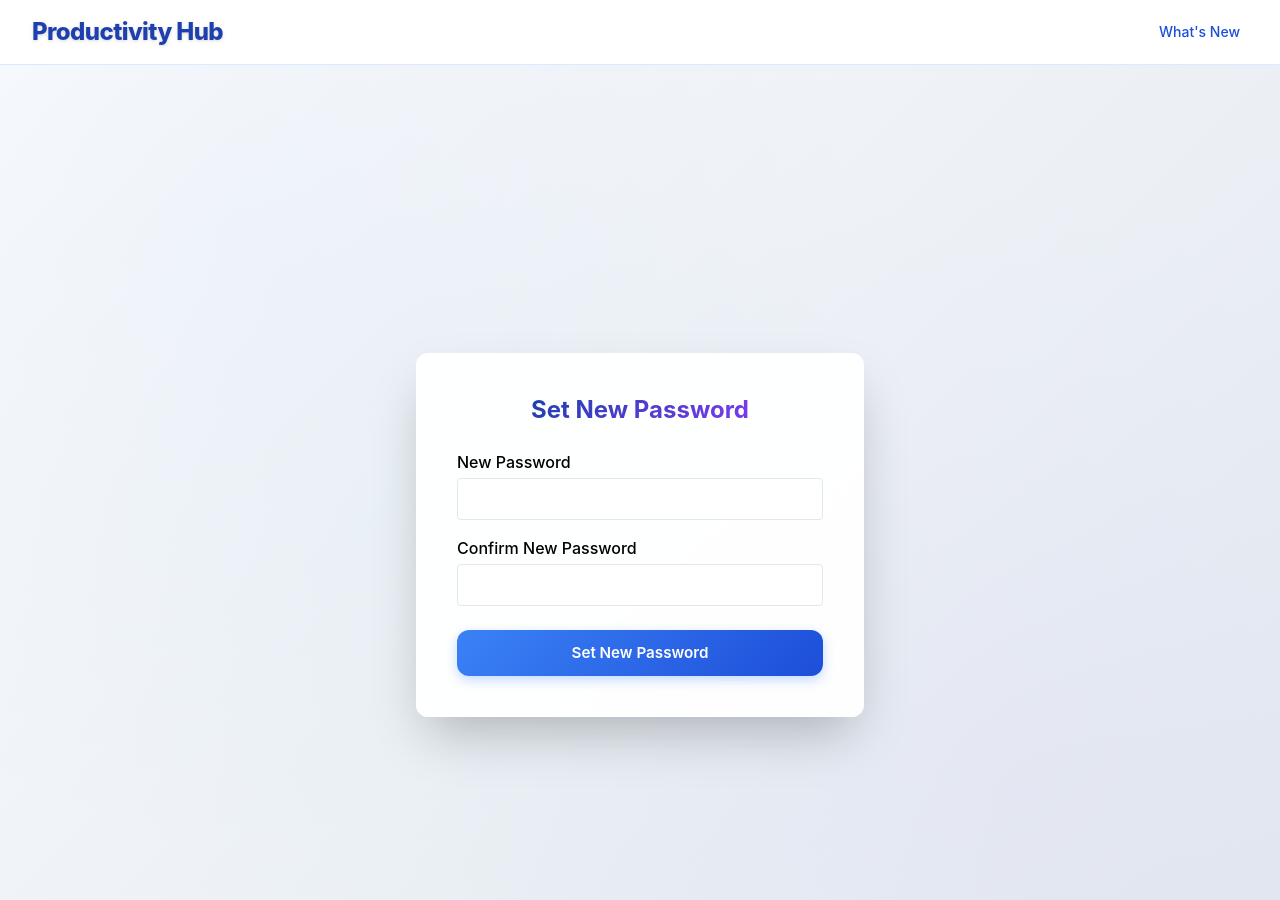
Test case: PasswordResetConfirmPage › Success State Handling › shows success message and redirects on successful password reset
Type "newpassword123" into the password field labelled "New Password".
click(640, 499); type("newpassword123")  # box [457,478,823,520]
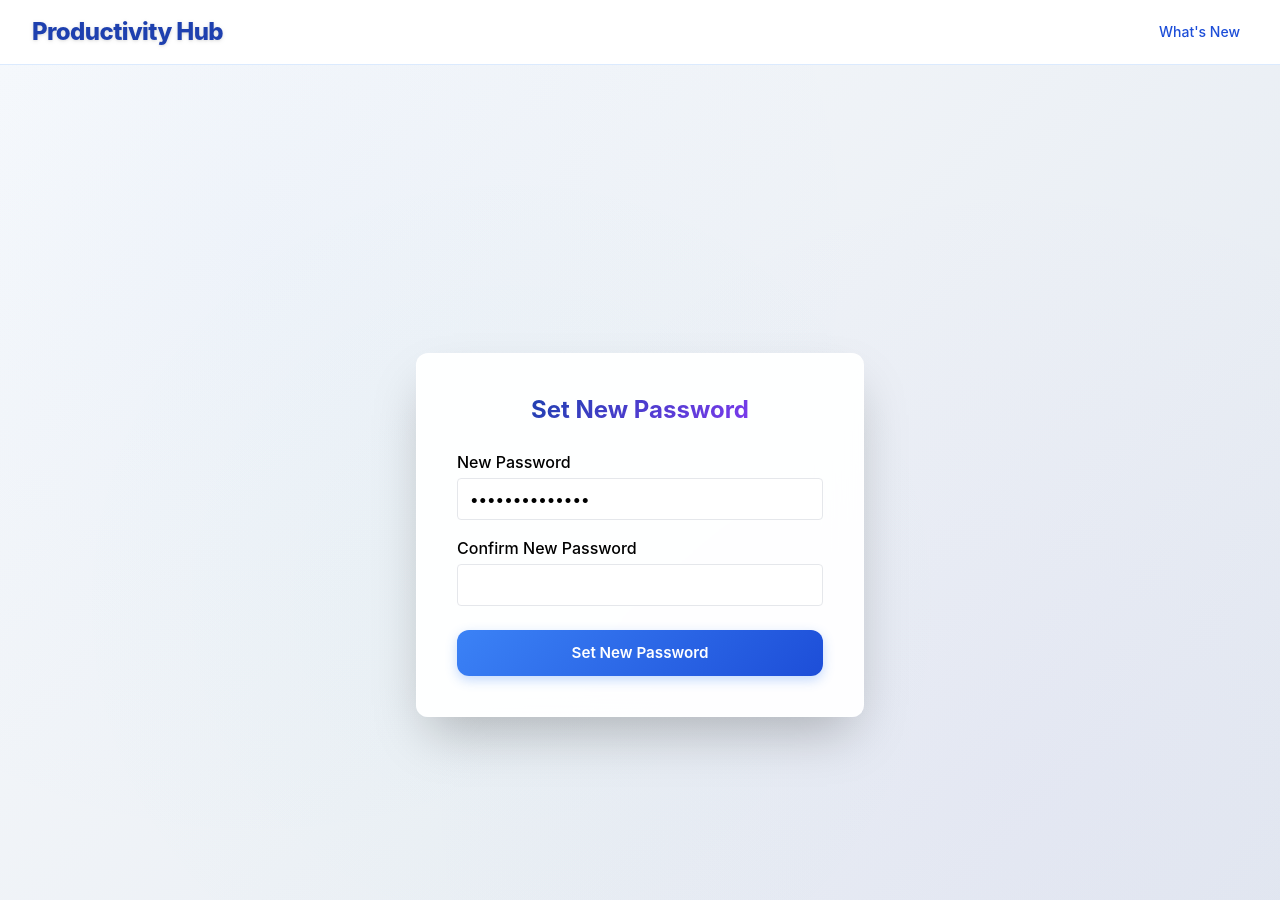
Type "newpassword123" into the password field labelled "Confirm New Password".
click(640, 585); type("newpassword123")  # box [457,564,823,606]
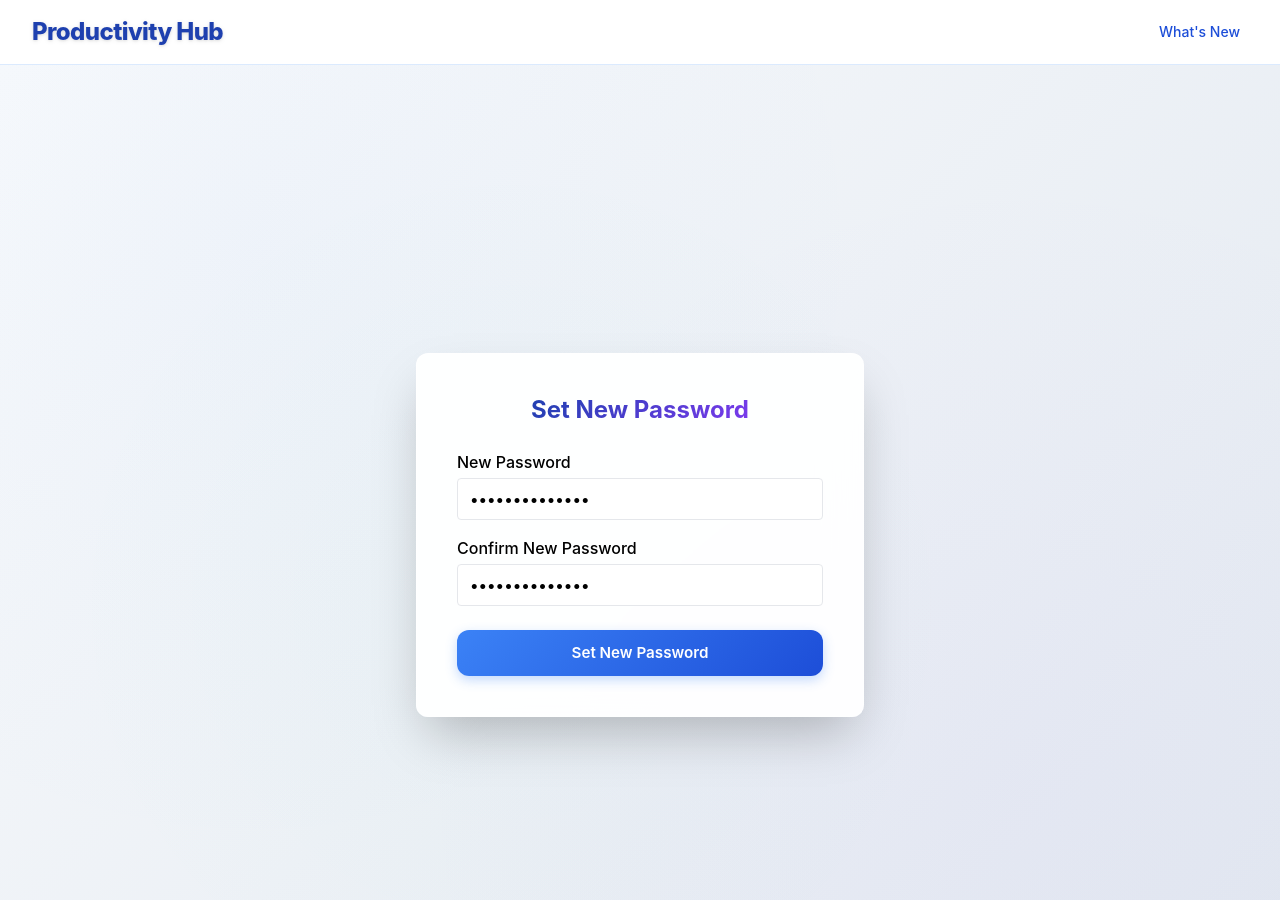
Click the button "Set New Password".
click(640, 653)  # box [457,630,823,676]
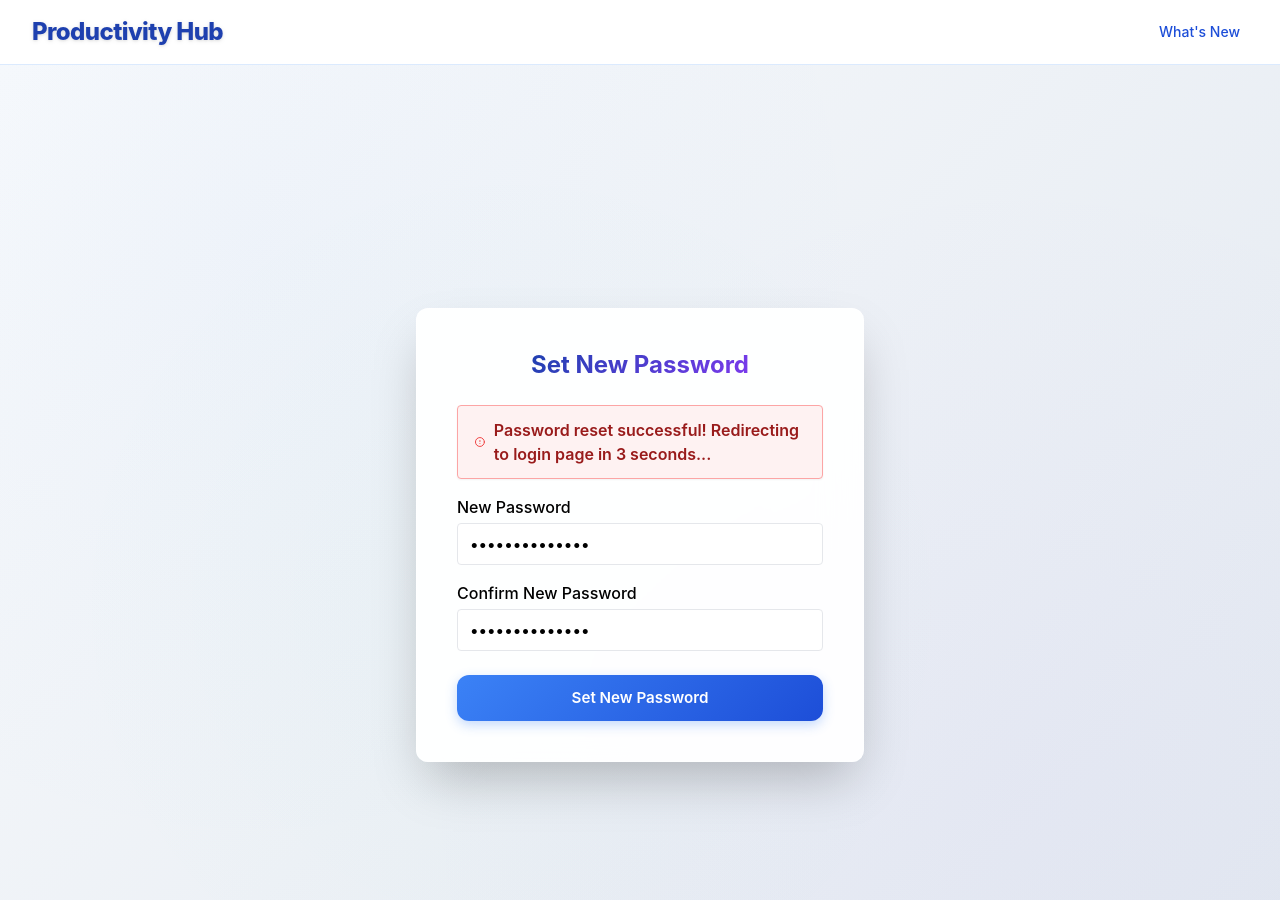
Result: the text "Password reset successful" is shown at [494,420,799,464]
